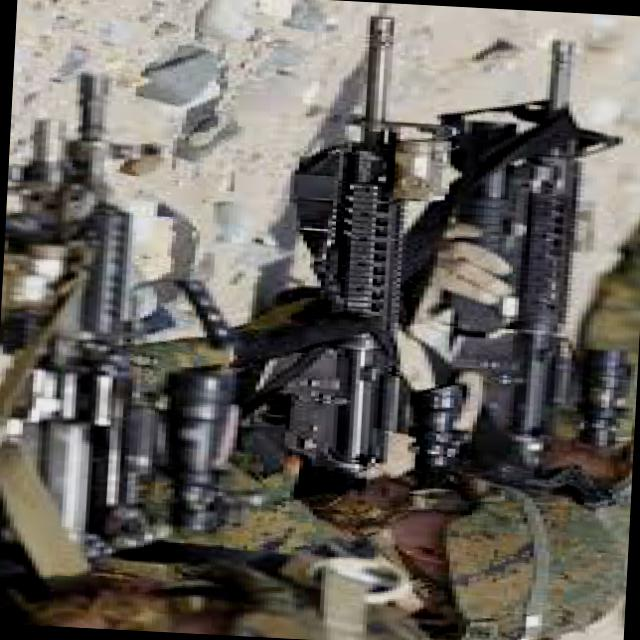long weapon: (0, 47, 227, 549), (428, 32, 638, 489), (285, 4, 475, 473)
